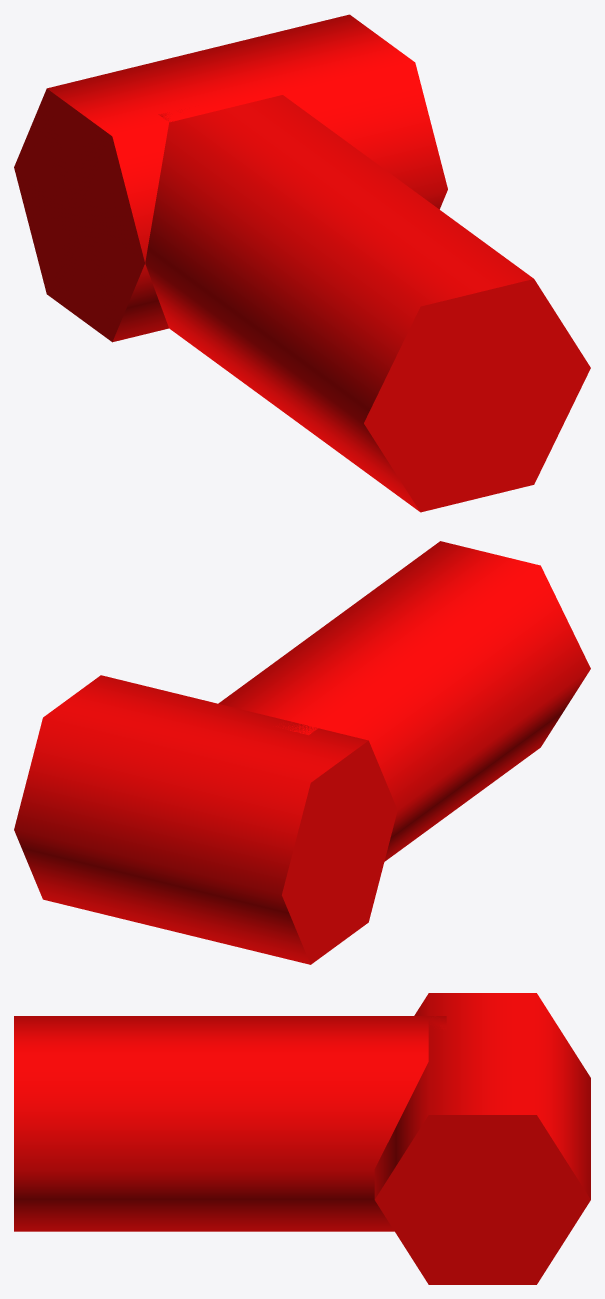
Rendered from Robot_Arm.FBX.
3 views of the same model, one above another, from view 1: azimuth 30°, elevation 25°; view 2: azimuth 150°, elevation 25°; view 3: azimuth 270°, elevation 25° (orthographic). The views are drawn at different scales.
Parts seen in each view (by area): view 1: RightArm1, RightArm0; view 2: RightArm0, RightArm1; view 3: RightArm1, RightArm0.
Boxes of the visible parts, left/top/right/bottom form: RightArm1: left=145, top=95, right=590, bottom=512; RightArm0: left=14, top=14, right=447, bottom=342; RightArm0: left=14, top=675, right=397, bottom=964; RightArm1: left=218, top=541, right=590, bottom=861; RightArm1: left=14, top=1016, right=446, bottom=1231; RightArm0: left=374, top=993, right=590, bottom=1284.
Size of the model in its own units: 0.8 by 0.5196 by 1.6.
